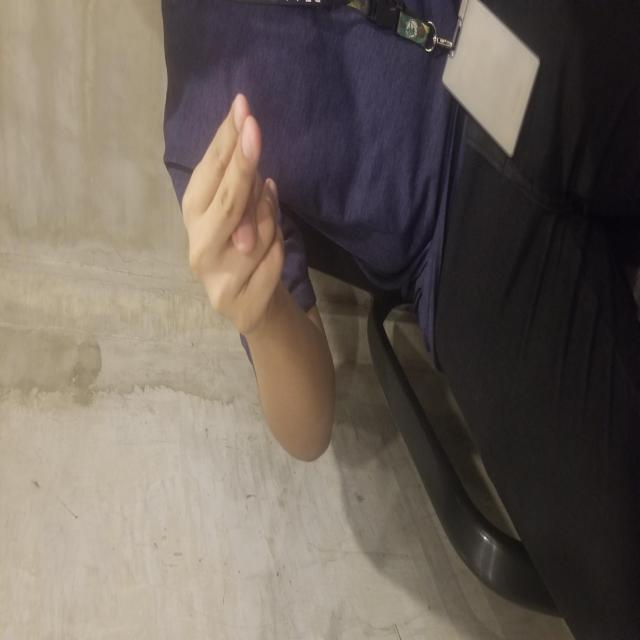N: (308, 181, 547, 284)
